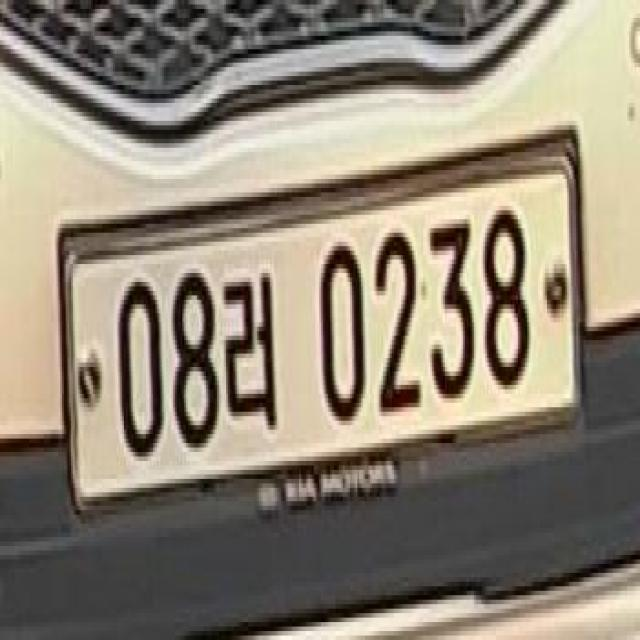illegal_plate: (60, 147, 589, 532)
